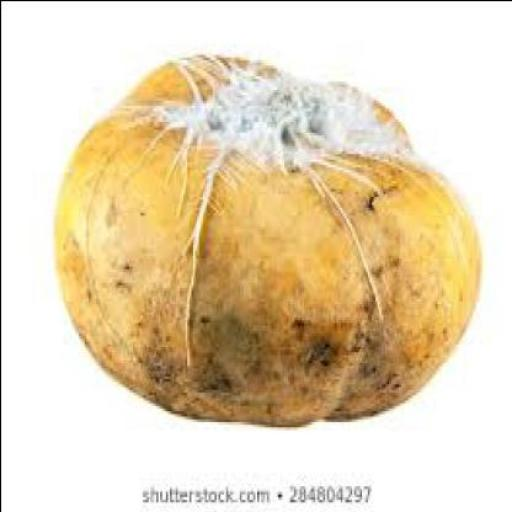biodegradable: (54, 49, 479, 420)
